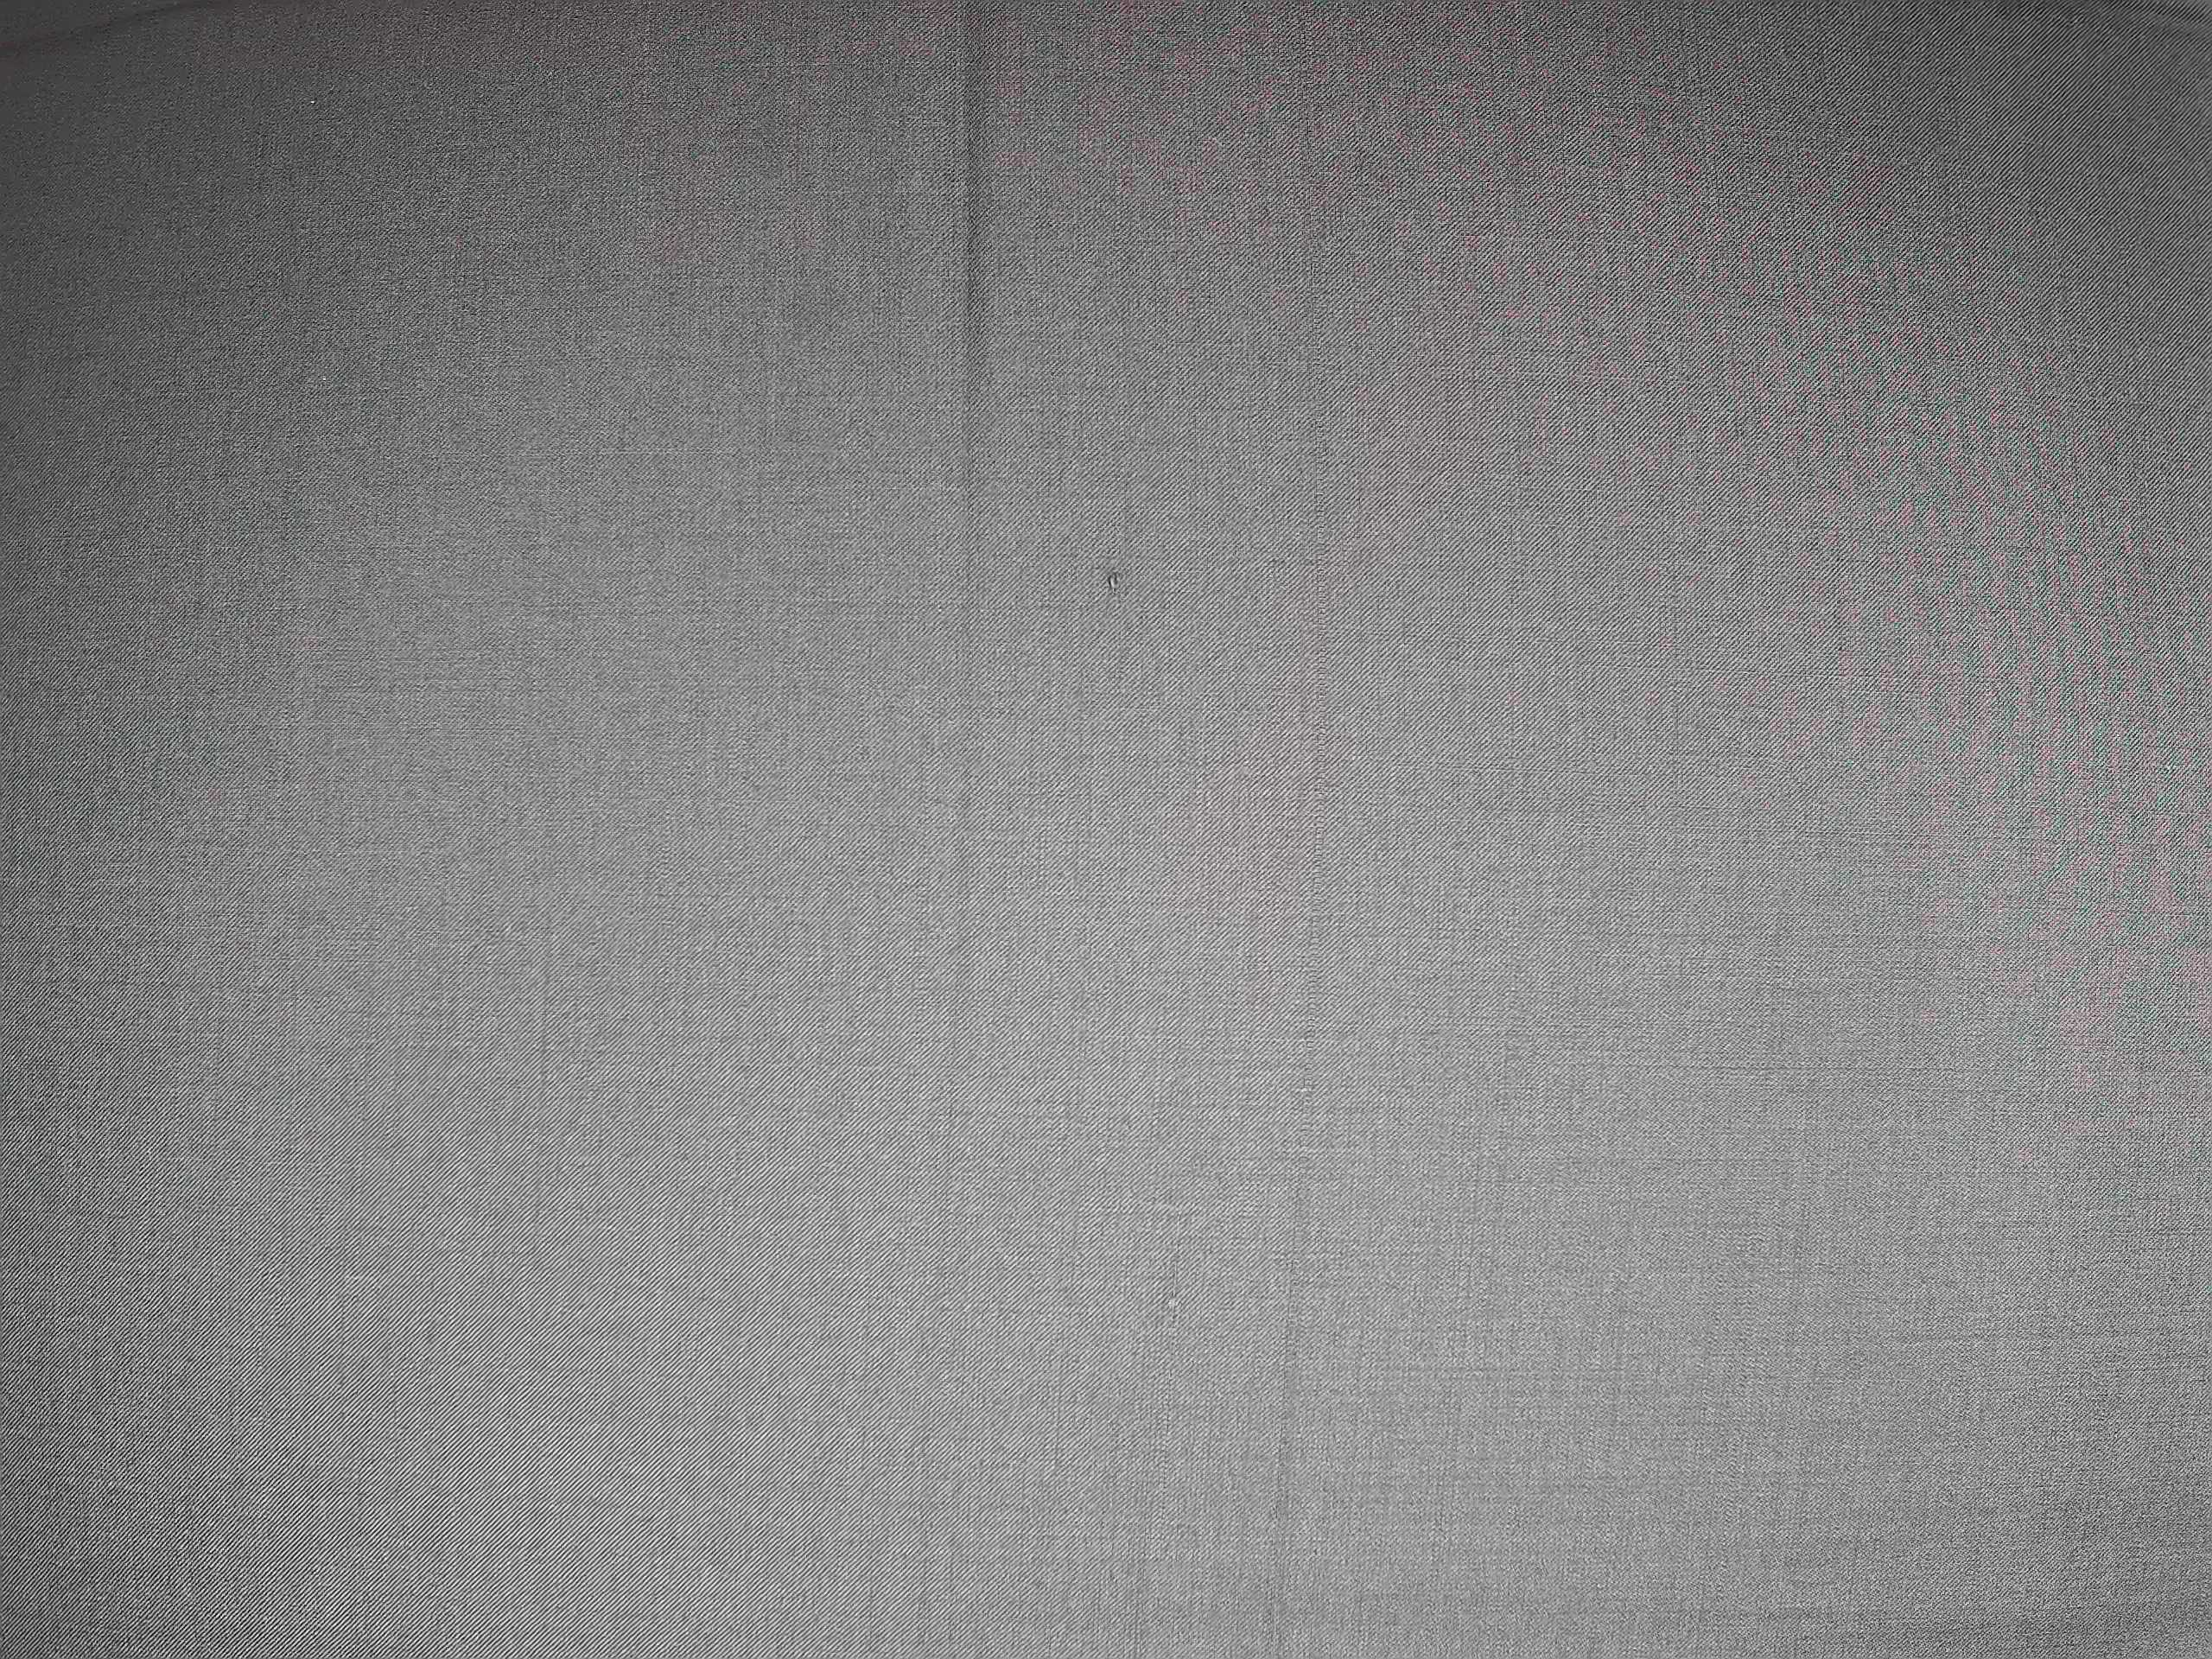others: (1082, 544, 1144, 612)
